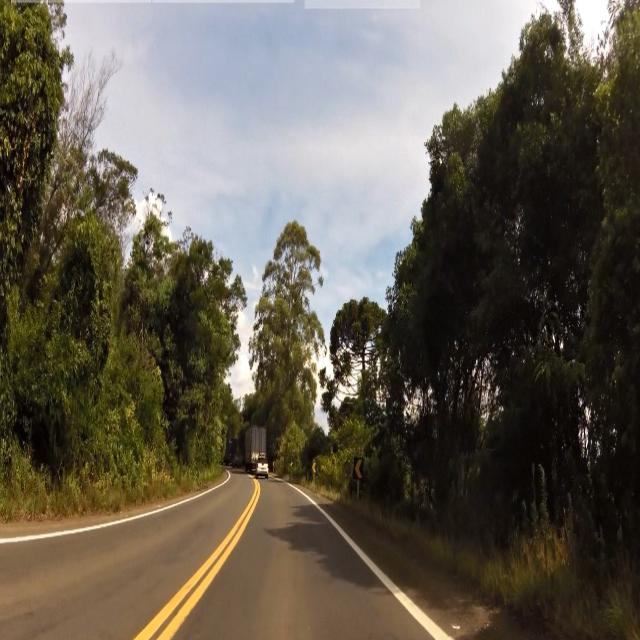Del: (355, 458, 366, 485)
